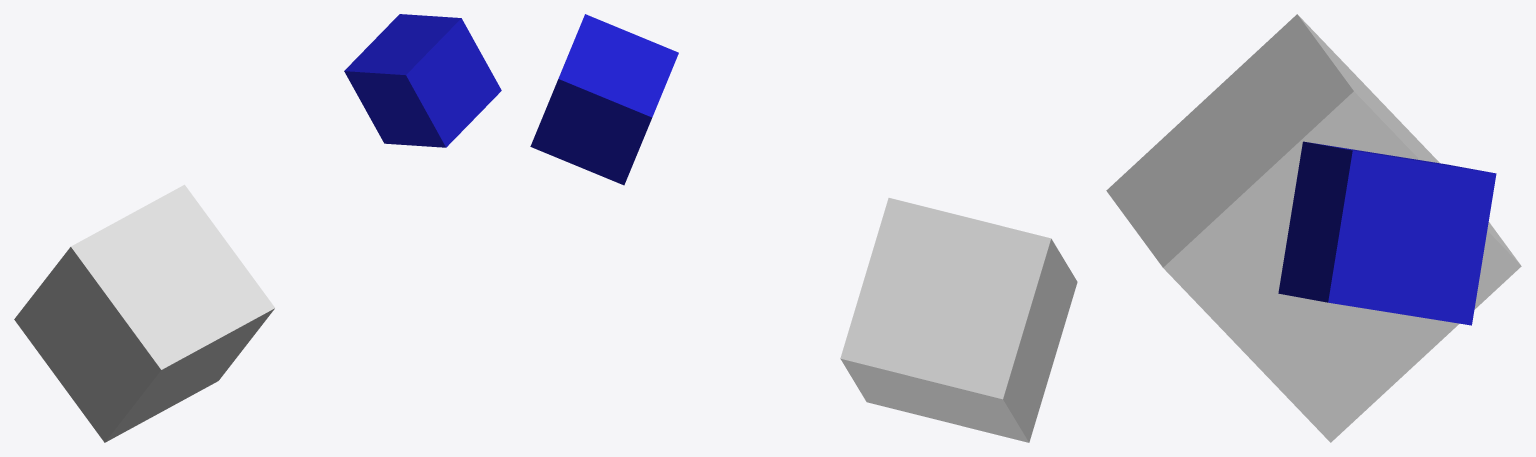
File: cube_fbxTest.fbx
3 renders of one model, left to right at view 1: azimuth 30°, elevation 25°; view 2: azimuth 150°, elevation 25°; view 3: azimuth 270°, elevation 25°, orthographic. The views are drawn at different scales.
Visible parts, largest first — view 1: Cube, Cube 1; view 2: Cube, Cube 1; view 3: Cube, Cube 1.
Part boxes in pixels (x1,y1,x2,y2): Cube: (14, 184, 274, 442); Cube 1: (344, 14, 501, 147); Cube: (840, 198, 1077, 442); Cube 1: (530, 14, 678, 185); Cube: (1106, 14, 1521, 442); Cube 1: (1278, 141, 1496, 325).
Size of the model in its own units: 103 by 69.09 by 49.58.
